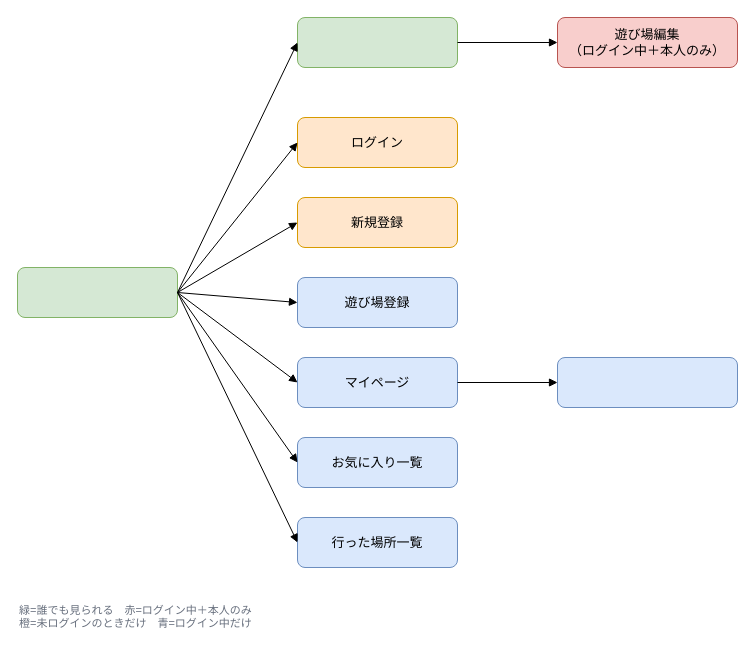
The diagram is 755 pixels wide and 655 high, and some of its shapes have lost their labels. Here are the shapes that lost their labels. From the top down, the centre of each, then its label:
the point at 377,42: 遊び場詳細
the point at 97,292: 遊び場一覧
the point at 647,382: プロフィール編集
